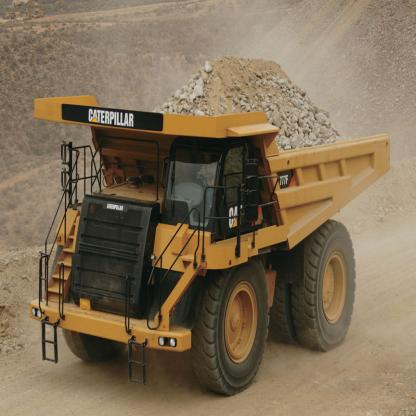dump_truck: (37, 48, 390, 392)
